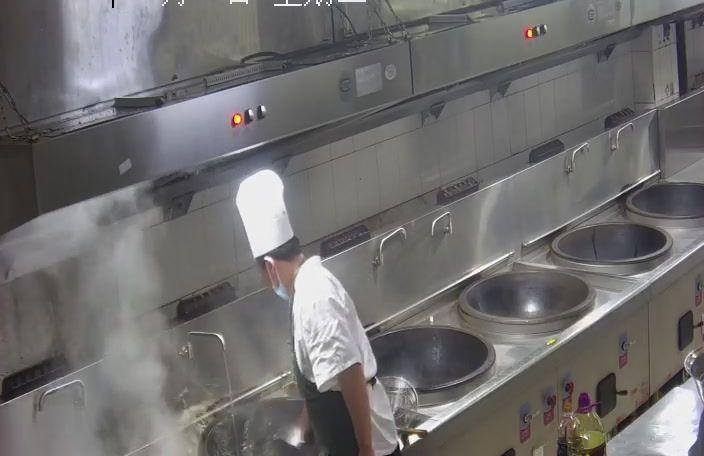mask: (256, 257, 302, 300)
